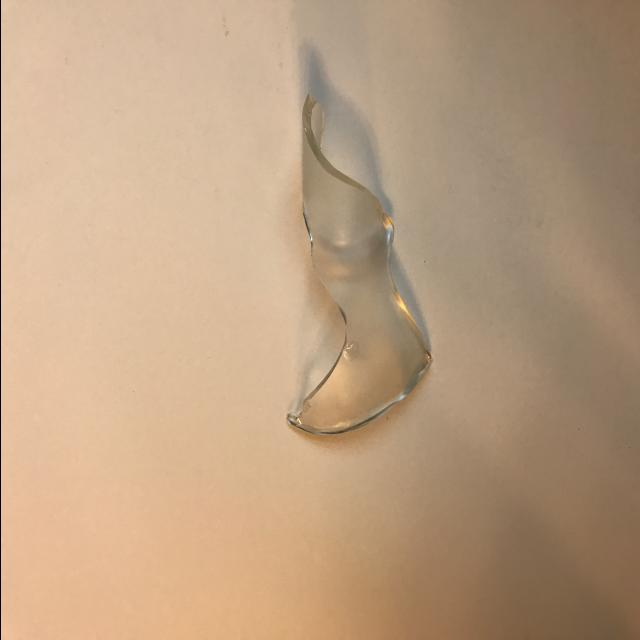glass: (262, 74, 439, 452)
